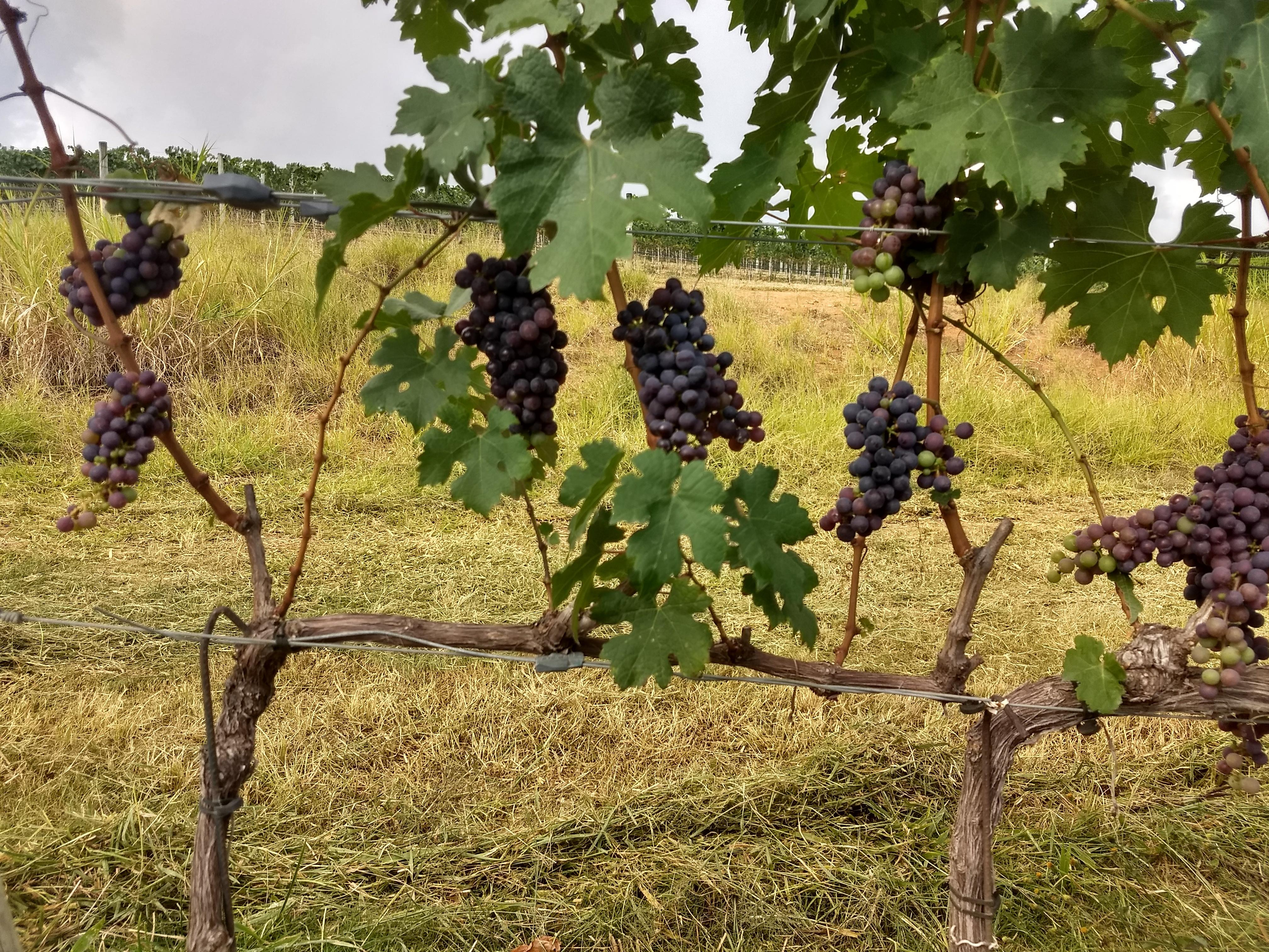leaf: (490, 51, 712, 298), (1040, 178, 1225, 364), (315, 148, 426, 311), (724, 464, 818, 646), (613, 449, 727, 591), (360, 325, 486, 432), (417, 401, 532, 515), (592, 579, 711, 688), (392, 56, 497, 175), (551, 507, 624, 614), (1184, 0, 1256, 103), (559, 438, 623, 547), (1224, 15, 1268, 165), (1062, 635, 1125, 713), (1176, 202, 1233, 243), (358, 165, 361, 169), (367, 166, 372, 167), (390, 163, 391, 164)
